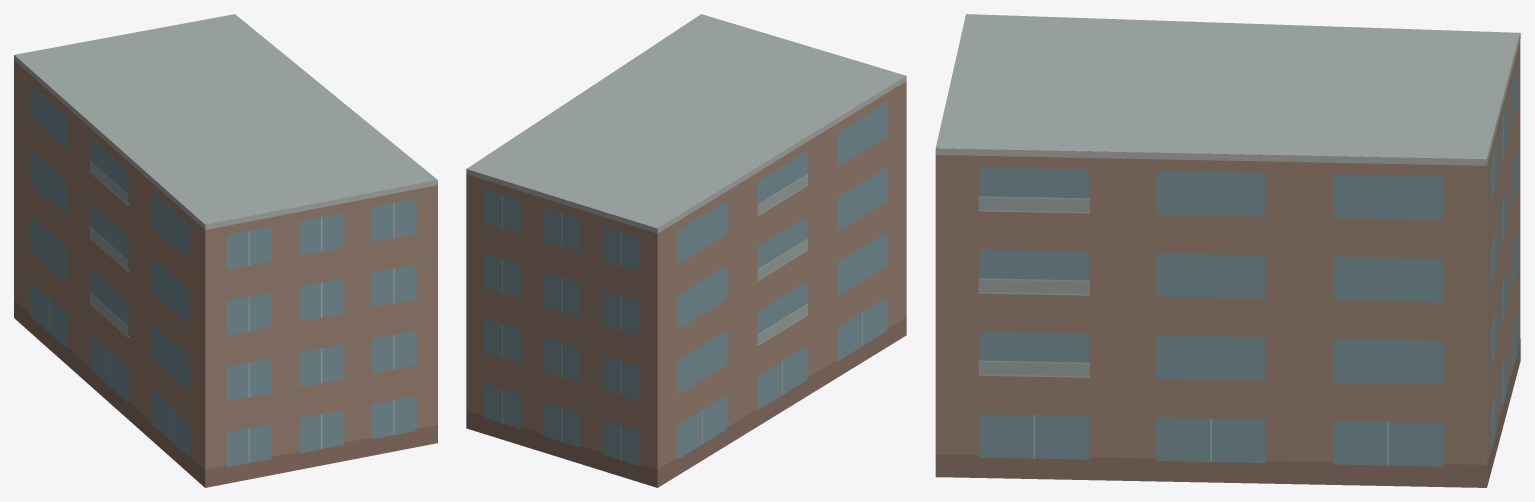
Rendered from survey-upis-32769341.glb.
3 views of the same model, side by side, from view 1: azimuth 30°, elevation 25°; view 2: azimuth 150°, elevation 25°; view 3: azimuth 270°, elevation 25° (orthographic). The views are drawn at different scales.
Parts seen in each view (by area): view 1: survey-upis-32769341.tmp; view 2: survey-upis-32769341.tmp; view 3: survey-upis-32769341.tmp.
Part boxes in pixels (x1=…): survey-upis-32769341.tmp: x1=14, y1=14, x2=437, y2=487; survey-upis-32769341.tmp: x1=466, y1=14, x2=906, y2=487; survey-upis-32769341.tmp: x1=935, y1=14, x2=1520, y2=487.
Size of the model in its own units: 11.57 by 12.2 by 19.68.
